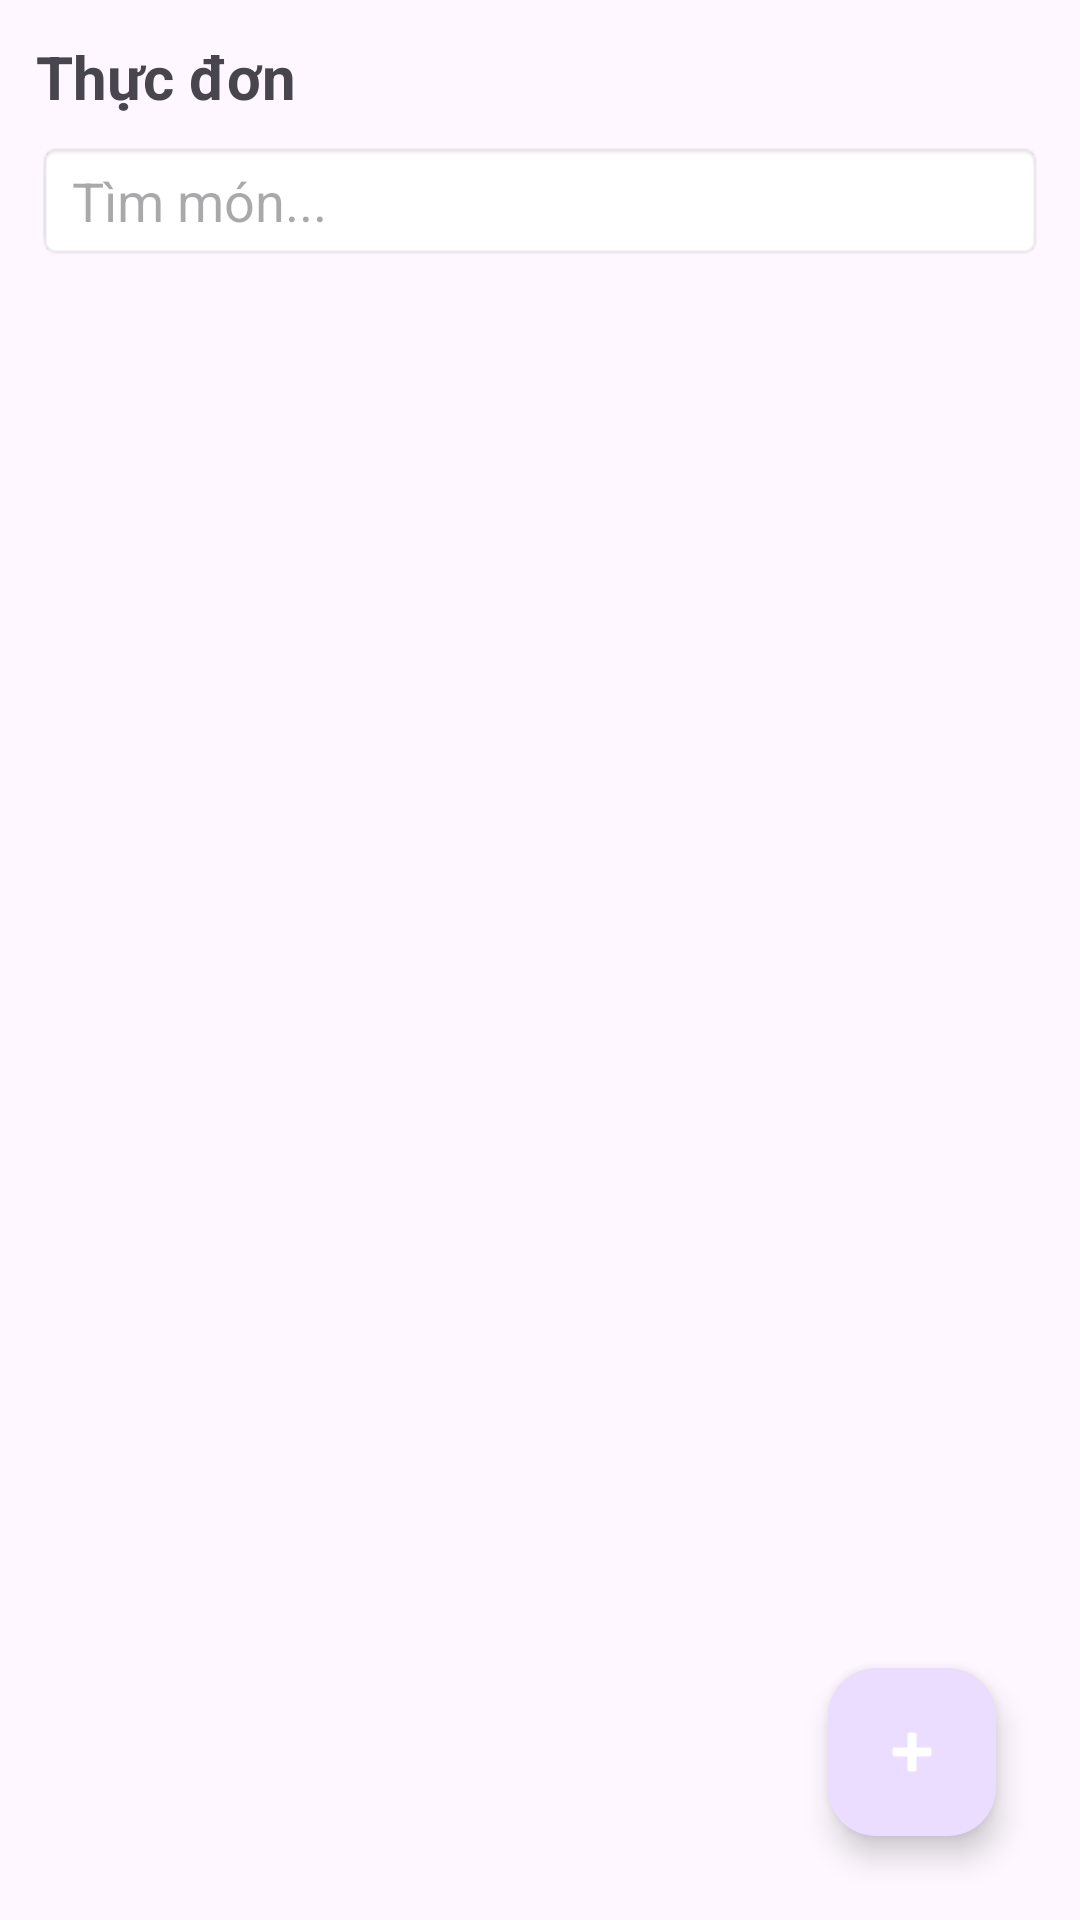

Where to tap for icons on this 1080 × 1920 app screen, as (x=x, y=y):
Thêm món: (x=912, y=1752)
